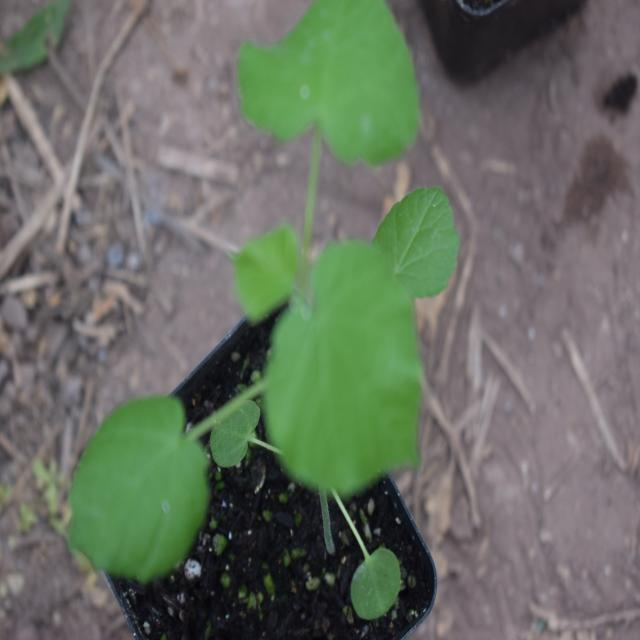abutilon theophrasti: (51, 0, 481, 588)
